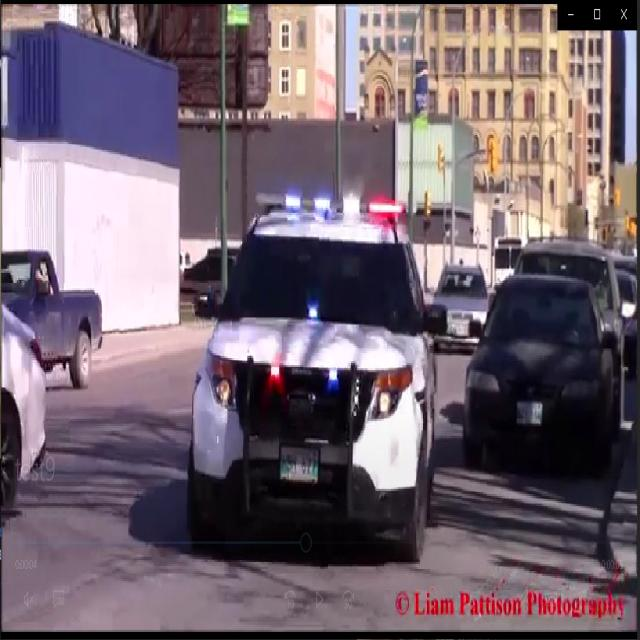emergency: (188, 180, 438, 568)
